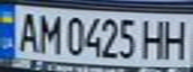0: (63, 14, 84, 56)
2: (100, 15, 121, 60)
4: (81, 15, 103, 58)
5: (118, 16, 142, 61)
A: (12, 9, 42, 53)
H: (160, 16, 193, 61), (139, 16, 169, 61)
M: (36, 10, 63, 55)
